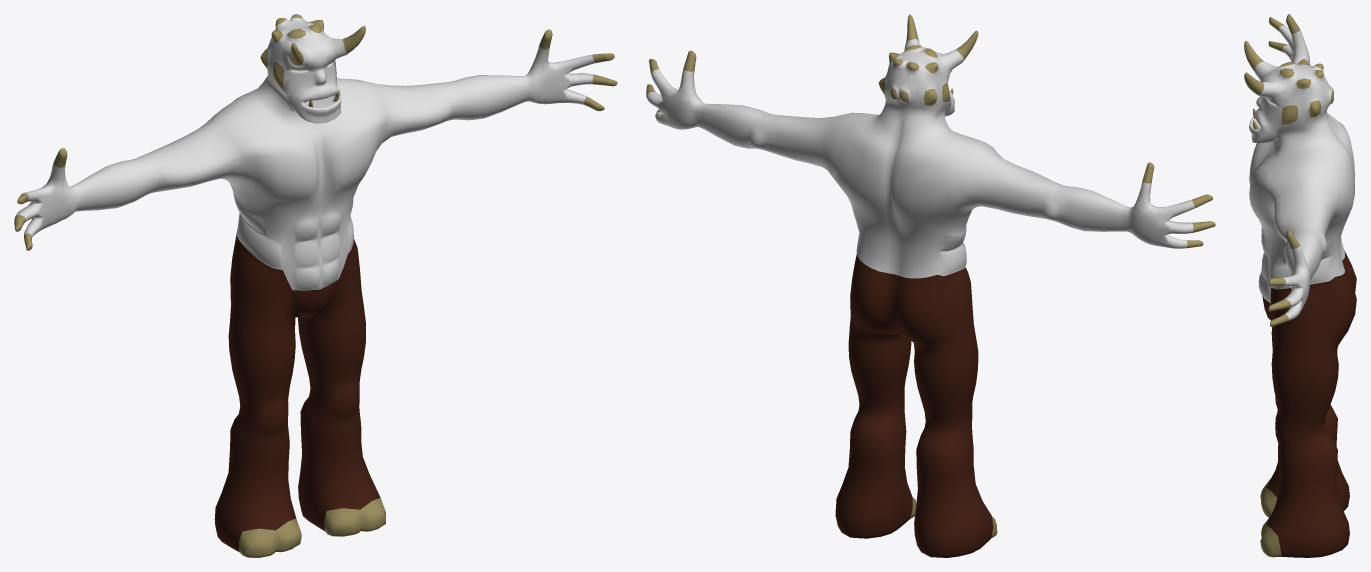
Rendered from Daemon.fbx.
3 views of the same model, side by side, from view 1: azimuth 30°, elevation 25°; view 2: azimuth 150°, elevation 25°; view 3: azimuth 270°, elevation 25° (orthographic). The views are drawn at different scales.
Parts seen in each view (by area): view 1: Box001; view 2: Box001; view 3: Box001.
Part boxes in pixels (x1=…): Box001: x1=14, y1=14, x2=617, y2=557; Box001: x1=646, y1=14, x2=1215, y2=557; Box001: x1=1244, y1=14, x2=1356, y2=557.
Size of the model in its own units: 151 by 124 by 26.88.
